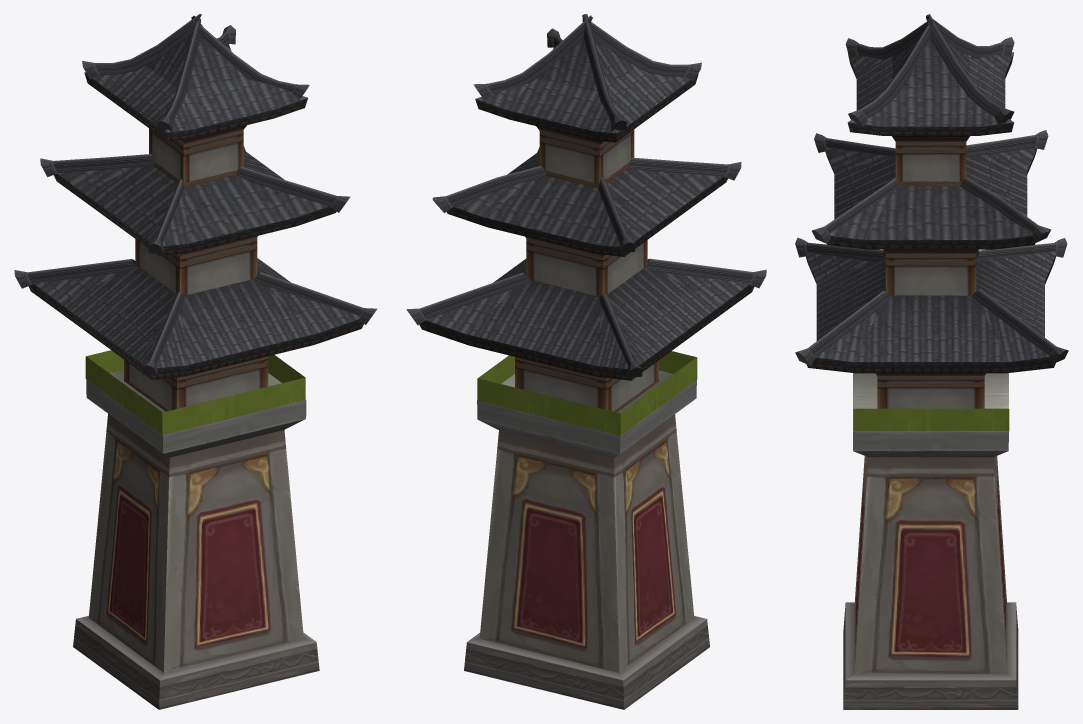
Rendered from City_bujian_17.fbx.
3 views of the same model, side by side, from view 1: azimuth 30°, elevation 25°; view 2: azimuth 150°, elevation 25°; view 3: azimuth 270°, elevation 25° (orthographic).
Visible parts, largest first — view 1: City_1_2017_3_7_2:City_1_2017_3_7_2:polySurface3852, City_1_2017_3_7_2:City_1_2017_3_7_2:City_1_2017_3_7_2:City_1; view 2: City_1_2017_3_7_2:City_1_2017_3_7_2:polySurface3852, City_1_2017_3_7_2:City_1_2017_3_7_2:City_1_2017_3_7_2:City_1; view 3: City_1_2017_3_7_2:City_1_2017_3_7_2:polySurface3852, City_1_2017_3_7_2:City_1_2017_3_7_2:City_1_2017_3_7_2:City_1.
Part boxes in pixels (bbox=[...]): City_1_2017_3_7_2:City_1_2017_3_7_2:polySurface3852: bbox=[14, 14, 377, 709]; City_1_2017_3_7_2:City_1_2017_3_7_2:City_1_2017_3_7_2:City_1: bbox=[85, 350, 305, 434]; City_1_2017_3_7_2:City_1_2017_3_7_2:polySurface3852: bbox=[406, 14, 766, 709]; City_1_2017_3_7_2:City_1_2017_3_7_2:City_1_2017_3_7_2:City_1: bbox=[477, 351, 697, 435]; City_1_2017_3_7_2:City_1_2017_3_7_2:polySurface3852: bbox=[795, 14, 1068, 709]; City_1_2017_3_7_2:City_1_2017_3_7_2:City_1_2017_3_7_2:City_1: bbox=[853, 408, 1009, 431].
Size of the model in its own units: 6.68 by 17.39 by 6.59.
